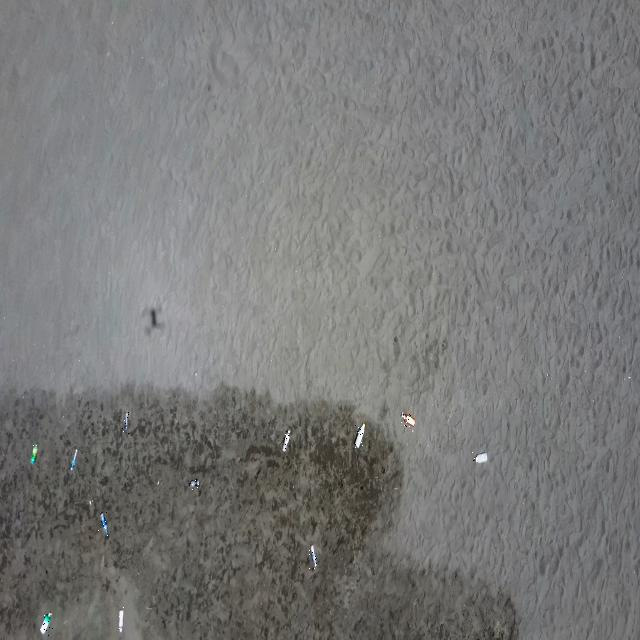plastic-bottle: (40, 612, 53, 636), (354, 422, 366, 448), (69, 448, 80, 472), (98, 511, 108, 537), (400, 413, 416, 428), (472, 451, 488, 465), (309, 544, 317, 570), (29, 443, 38, 466), (282, 429, 290, 454), (118, 607, 125, 634), (122, 412, 130, 434), (188, 479, 199, 490)
